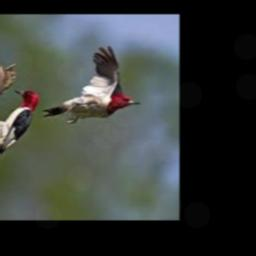Woodpecker: (42, 45, 140, 123), (0, 89, 40, 167)
